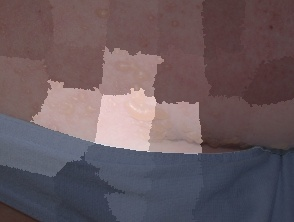SJS-TEN: (25, 0, 279, 163)
